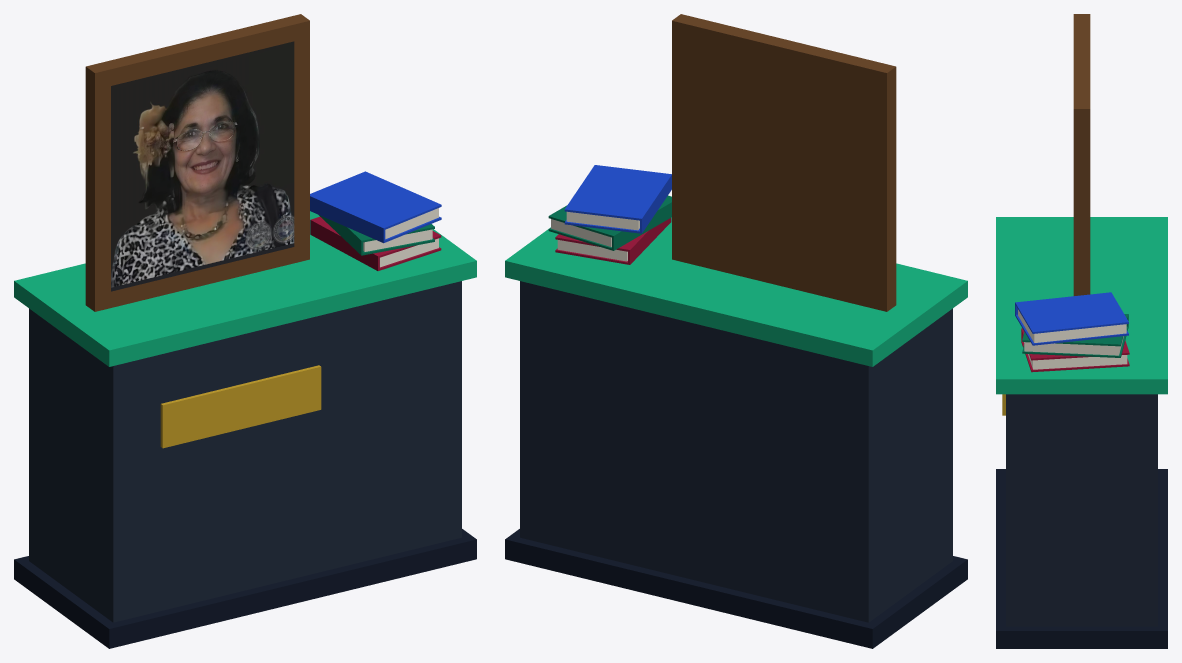
File: delfina-acosta.glb
The picture shows the model from 3 angles, left to right: view 1: azimuth 30°, elevation 25°; view 2: azimuth 150°, elevation 25°; view 3: azimuth 270°, elevation 25°; orthographic projection. The views are drawn at different scales.
Parts seen in each view (by area): view 1: pedestal, retrato, esmeralda, marco, zocalo, placa, tapa_azul (×2), tapa_roja, hojas; view 2: pedestal, marco, esmeralda, zocalo, tapa_azul, hojas (×2); view 3: pedestal, esmeralda, zocalo, marco, tapa_azul (×2), hojas (×3), tapa_verde (×2), tapa_roja (×2).
Part boxes in pixels (<box>): pedestal: <box>29,281,461,622</box>; retrato: <box>111,41,294,291</box>; esmeralda: <box>14,211,476,366</box>; marco: <box>85,14,309,311</box>; zocalo: <box>14,529,476,648</box>; placa: <box>160,365,321,448</box>; tapa_azul (×2): <box>310,171,441,242</box>; tapa_roja: <box>310,220,379,270</box>; hojas: <box>363,229,432,251</box>; pedestal: <box>520,281,952,622</box>; marco: <box>672,14,896,311</box>; esmeralda: <box>505,217,967,366</box>; zocalo: <box>505,529,967,648</box>; tapa_azul: <box>564,165,671,220</box>; hojas (×2): <box>557,211,639,261</box>; pedestal: <box>1006,394,1157,626</box>; esmeralda: <box>996,217,1167,394</box>; zocalo: <box>996,469,1167,648</box>; marco: <box>1073,14,1090,295</box>; tapa_azul (×2): <box>1015,292,1128,345</box>; hojas (×3): <box>1018,309,1127,369</box>; tapa_verde (×2): <box>1022,314,1128,357</box>; tapa_roja (×2): <box>1021,328,1129,372</box>.
Size of the model in its own units: 1.16 by 1.62 by 0.52.
10 materials, 1 textured.
